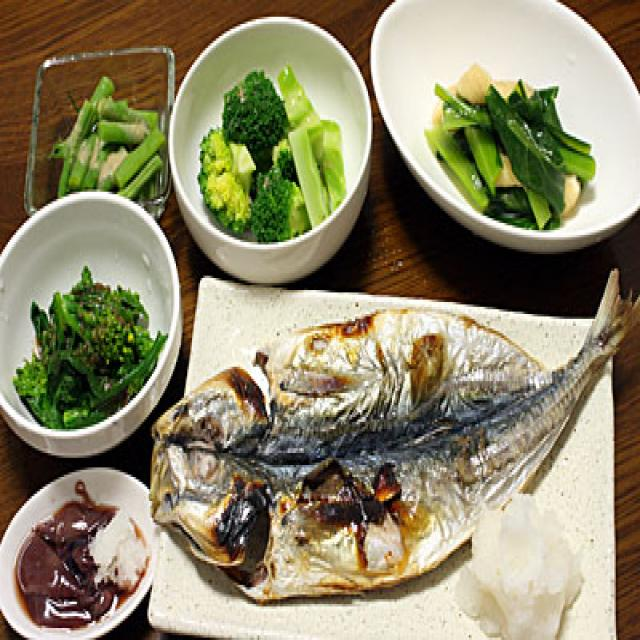熟制海鲜: (151, 261, 634, 604)
